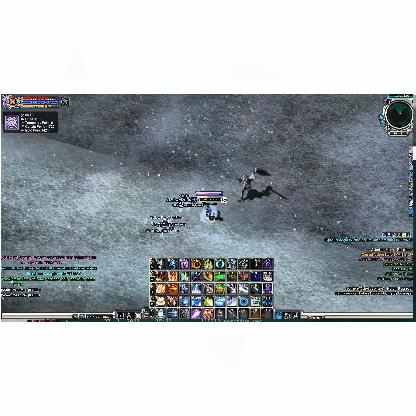caliana: (235, 168, 271, 202)
